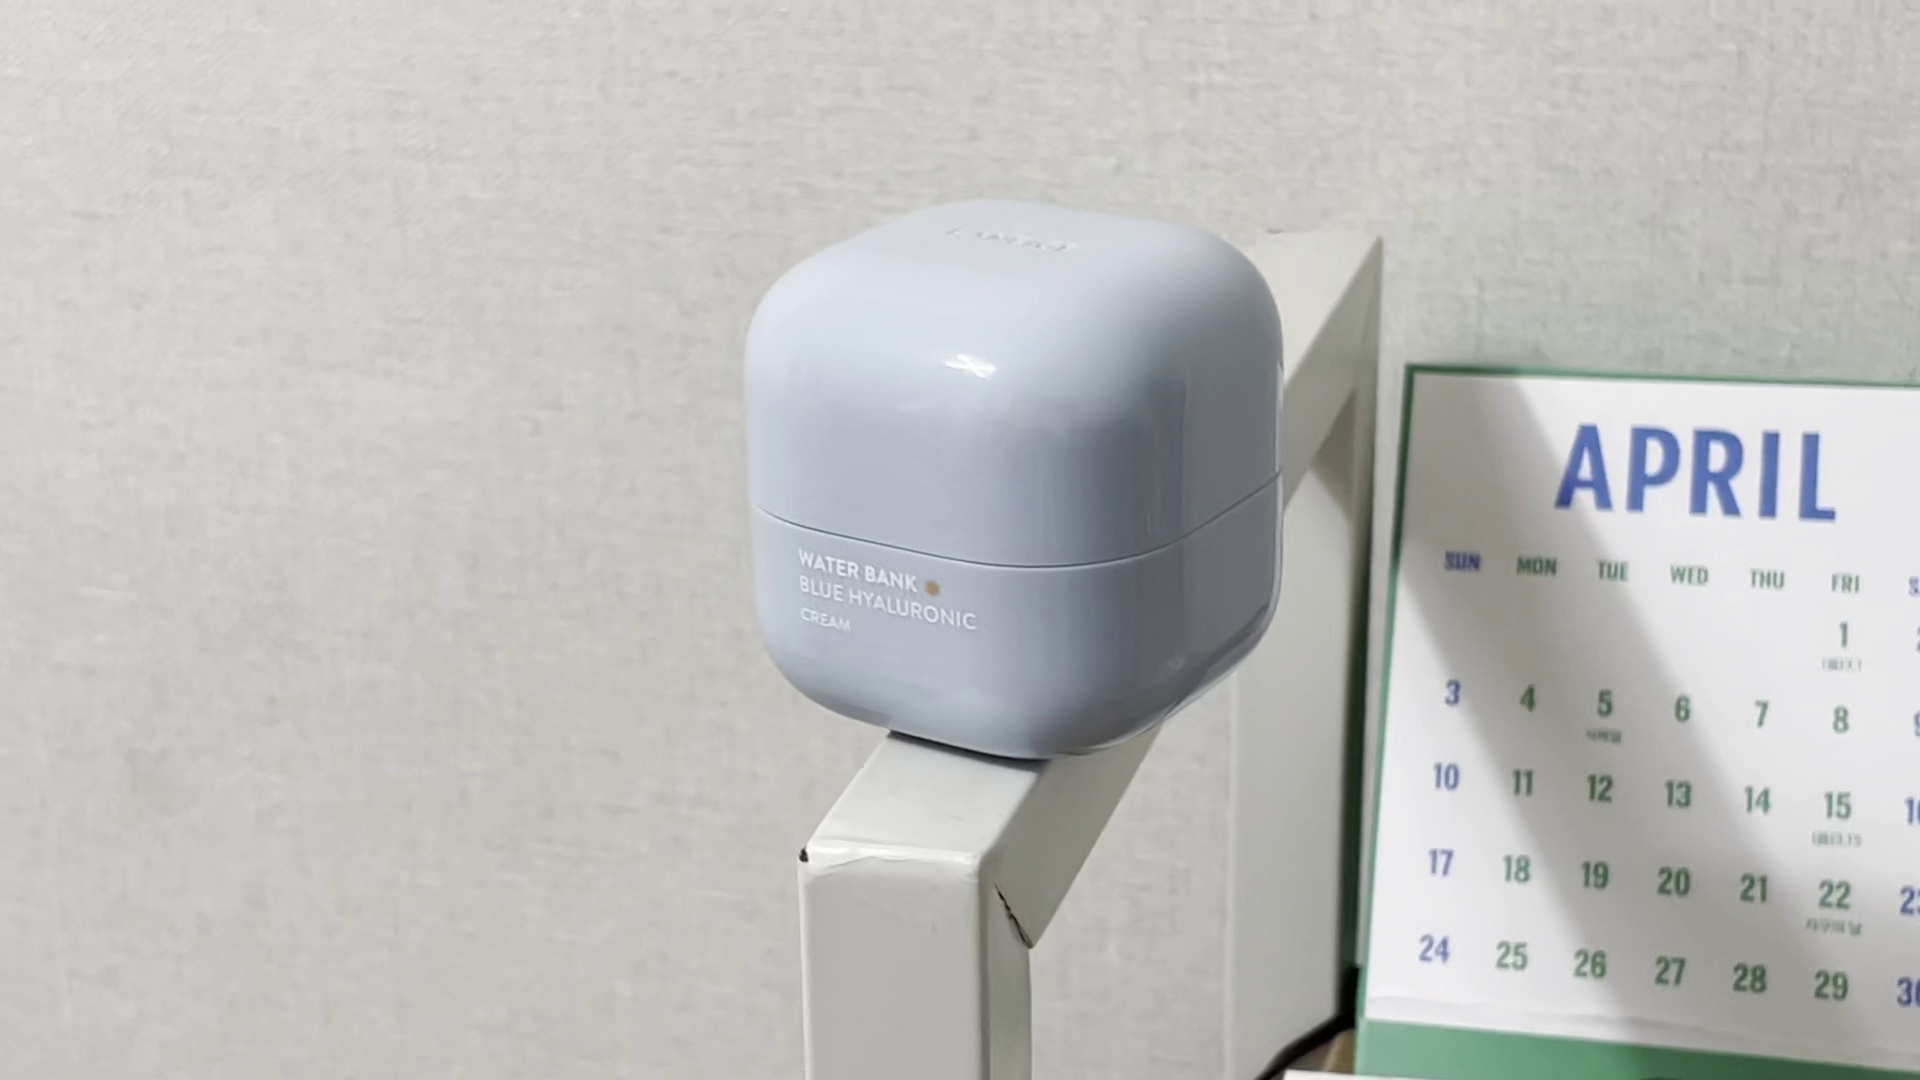cream: (735, 193, 1288, 760)
